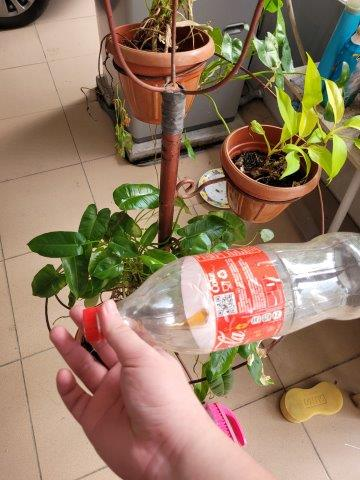botolplastik: (94, 233, 360, 353)
